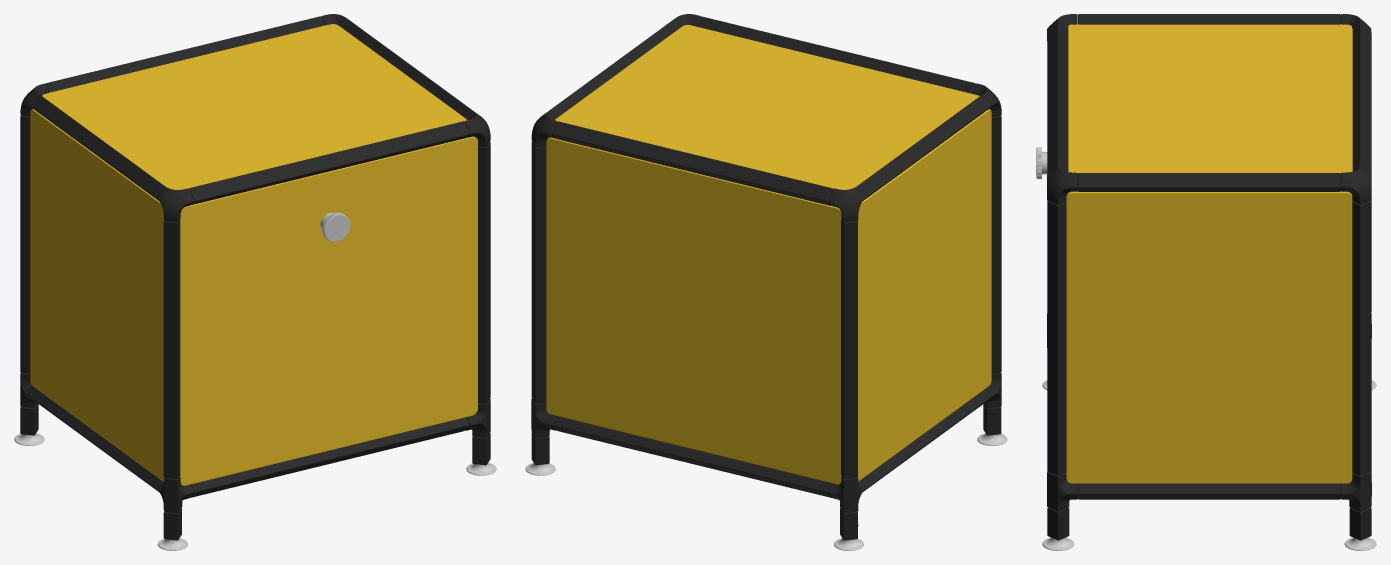
3 renders of one model, left to right at view 1: azimuth 30°, elevation 25°; view 2: azimuth 150°, elevation 25°; view 3: azimuth 270°, elevation 25°, orthographic. The views are drawn at different scales.
Parts seen in each view (by area): view 1: 420x329x374; view 2: 420x329x374; view 3: 420x329x374.
Boxes of the visible parts, box(x1,y1,x2,y2) form: 420x329x374: box(14, 14, 496, 550); 420x329x374: box(525, 14, 1007, 550); 420x329x374: box(1036, 14, 1376, 550).
Size of the model in its own units: 0.5099 by 0.5133 by 0.4257.
